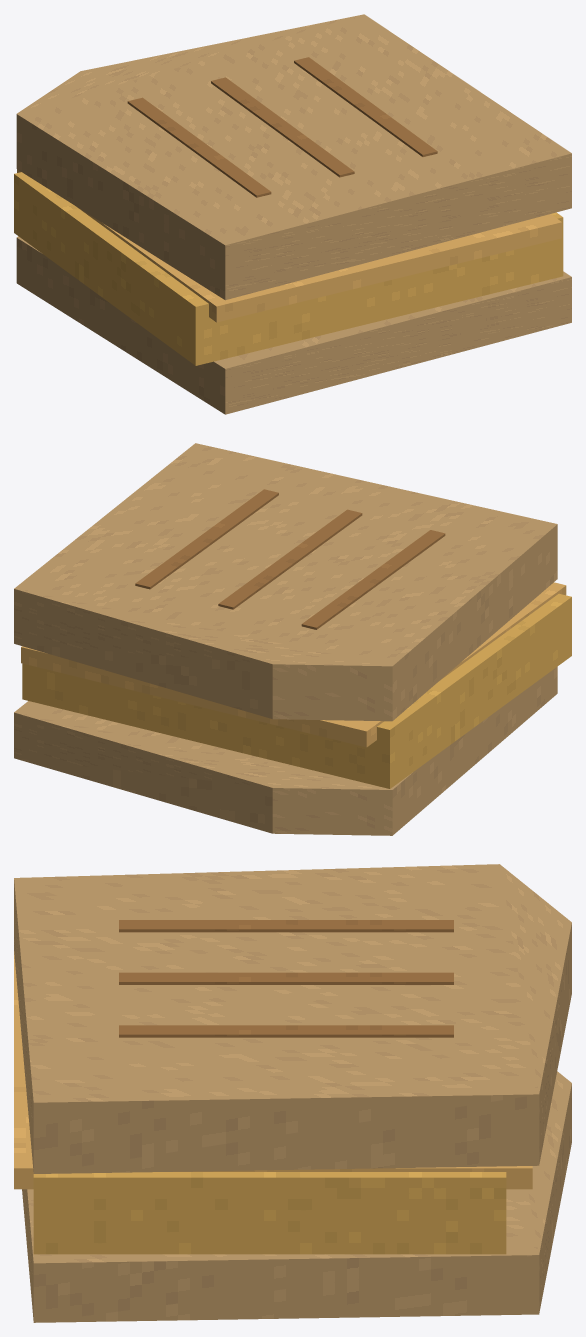
File: sandwich_cheese_grilled.glb
3 renders of one model, top to bottom at view 1: azimuth 30°, elevation 25°; view 2: azimuth 150°, elevation 25°; view 3: azimuth 270°, elevation 25°, orthographic. The views are drawn at different scales.
Parts seen in each view (by area): view 1: block_upper slice, block_filling, block_lower slice, block_second filling, block_toasted stripe (×3); view 2: block_upper slice, block_lower slice, block_filling, block_toasted stripe (×3), block_second filling; view 3: block_upper slice, block_lower slice, block_filling, block_toasted stripe (×3), block_second filling.
Part boxes in pixels (x1,y1,x2,y2): block_upper slice: (16,14,571,300); block_filling: (14,172,563,365); block_lower slice: (16,236,571,414); block_second filling: (17,169,561,322); block_toasted stripe (×3): (127,57,437,197); block_upper slice: (14,443,557,721); block_lower slice: (14,666,557,835); block_filling: (22,593,571,788); block_toasted stripe (×3): (135,489,445,629); block_second filling: (21,582,566,747); block_upper slice: (14,864,571,1173); block_lower slice: (22,1071,571,1322); block_filling: (33,1172,506,1254); block_toasted stripe (×3): (119,920,453,1037); block_second filling: (14,951,532,1189).
Size of the model in its own units: 0.1437 by 0.0628 by 0.142.
1 material, 1 textured.
